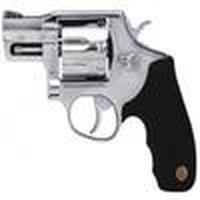gun: (2, 7, 198, 193)
